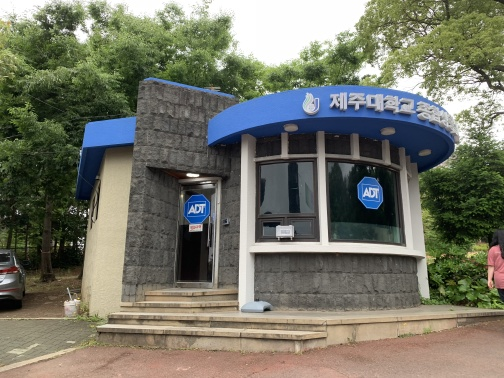Security Office: (74, 72, 463, 361)
